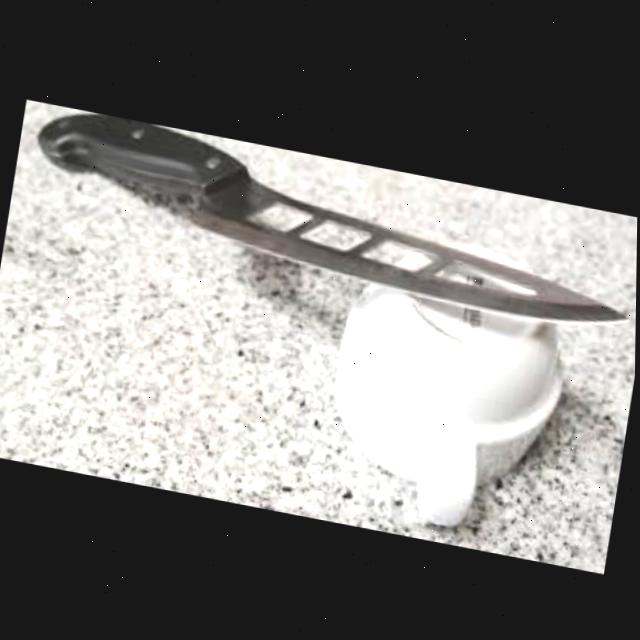knife: (22, 100, 639, 329)
